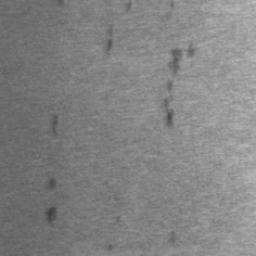Iron scale compression: (165, 79, 173, 126), (169, 51, 180, 71), (106, 25, 114, 51), (47, 208, 56, 221), (53, 116, 58, 132), (187, 42, 193, 54), (49, 178, 54, 189)
